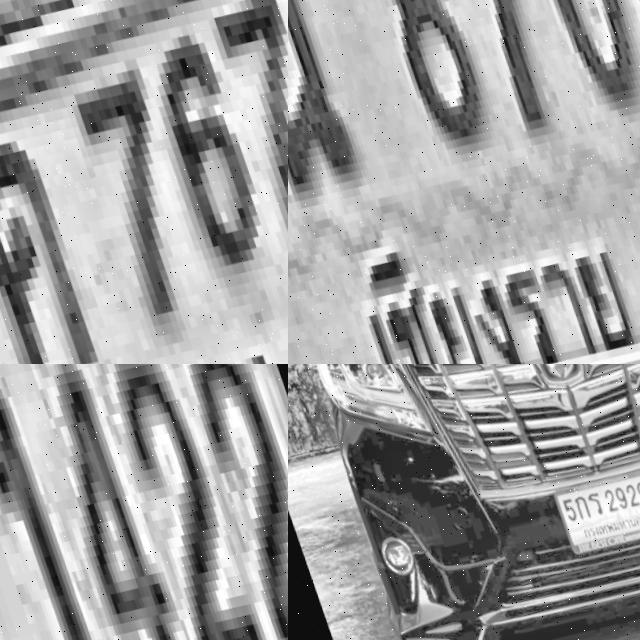license-plate: (288, 0, 640, 364), (0, 0, 288, 364), (0, 364, 288, 640), (539, 459, 640, 559)
